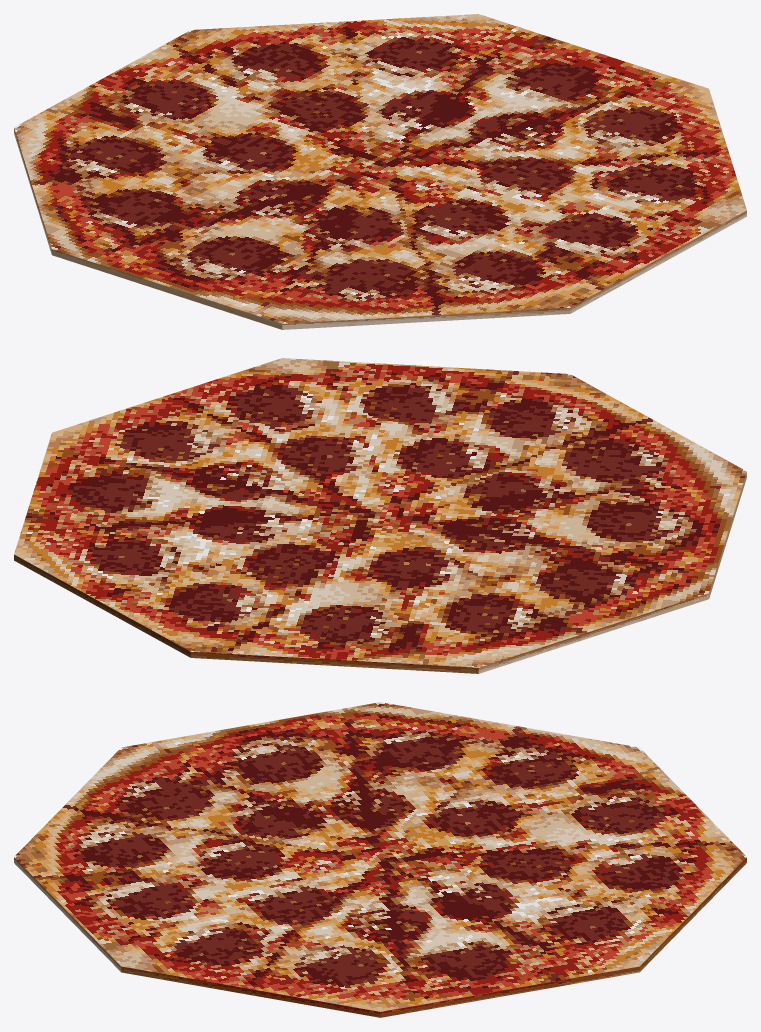
File: pizza.glb
3 renders of one model, top to bottom at view 1: azimuth 30°, elevation 25°; view 2: azimuth 150°, elevation 25°; view 3: azimuth 270°, elevation 25°, orthographic. The views are drawn at different scales.
Visible parts, largest first — view 1: Cylinder; view 2: Cylinder; view 3: Cylinder.
Boxes of the visible parts, bbox=[...] form: Cylinder: bbox=[14, 14, 746, 329]; Cylinder: bbox=[14, 358, 746, 673]; Cylinder: bbox=[14, 702, 746, 1017].
Bounding box in the file's own units: 0.3 × 0.00269 × 0.3.
Materials: 1 (1 with a texture image).
